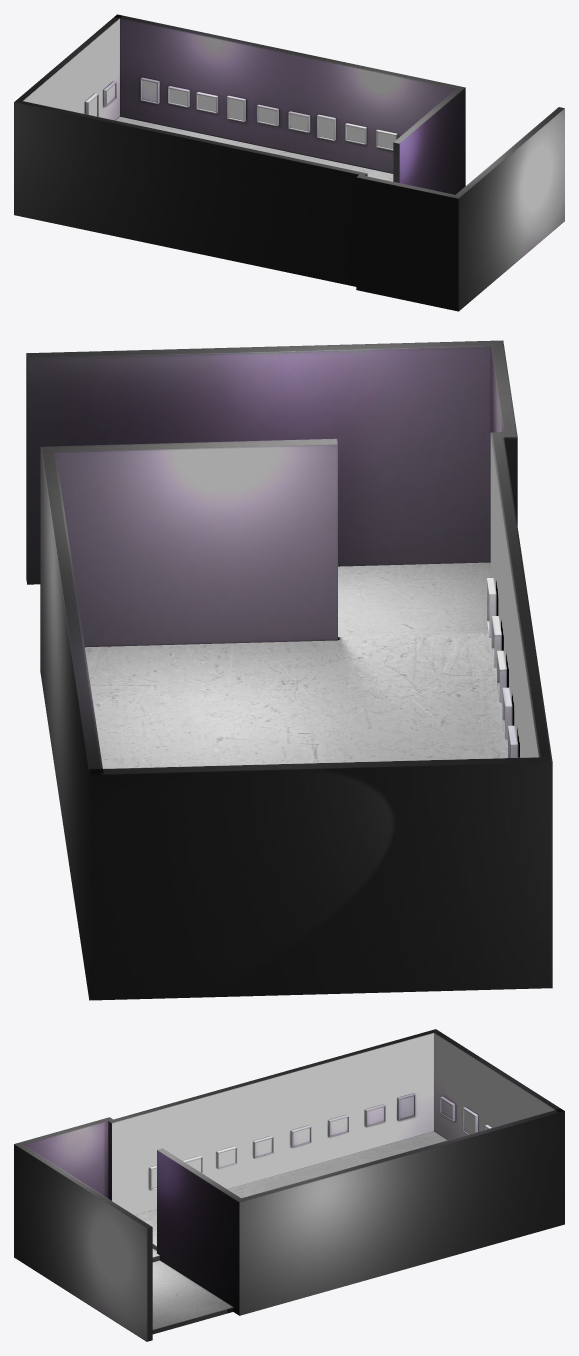
File: norwid_interior_jpg.glb
The picture shows the model from 3 angles, top to bottom: view 1: azimuth 30°, elevation 25°; view 2: azimuth 150°, elevation 25°; view 3: azimuth 270°, elevation 25°; orthographic projection. The views are drawn at different scales.
Visible parts, largest first — view 1: walls, FloorNorwid; view 2: walls, FloorNorwid; view 3: walls, FloorNorwid.
Boxes of the visible parts, x1,y1,x2,y2 form: walls: [14, 14, 564, 311]; FloorNorwid: [115, 116, 393, 181]; walls: [26, 340, 552, 1000]; FloorNorwid: [85, 562, 507, 768]; walls: [14, 1029, 564, 1341]; FloorNorwid: [135, 1131, 447, 1334].
Size of what is drawn, in the model's own units: 6.56 by 1.74 by 7.66.
Materials: 2 (2 with a texture image).
